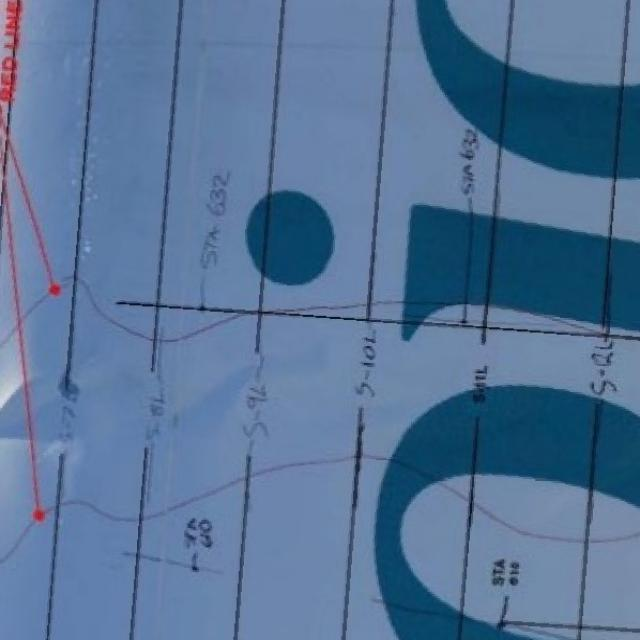dent: (2, 367, 263, 456)
